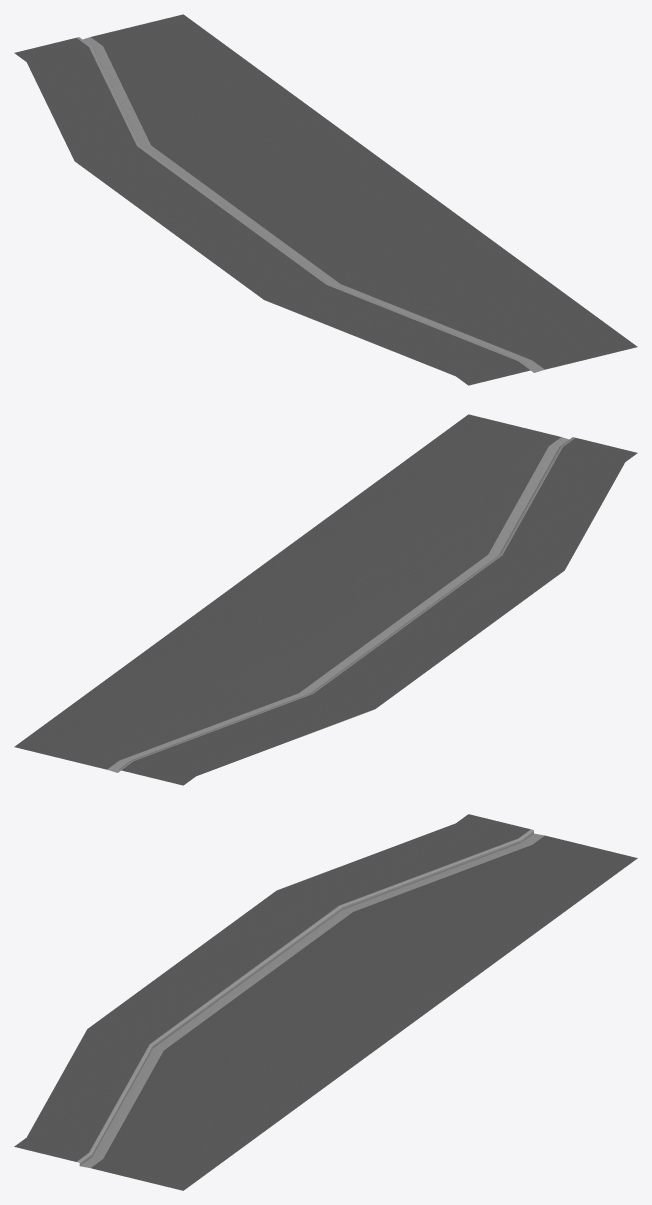
File: BusBay.glb
3 renders of one model, top to bottom at view 1: azimuth 30°, elevation 25°; view 2: azimuth 150°, elevation 25°; view 3: azimuth 330°, elevation 25°, orthographic.
Parts seen in each view (by area): view 1: BusBay-L; view 2: BusBay-L; view 3: BusBay-L.
Boxes of the visible parts, x1=… form: BusBay-L: x1=14, y1=14, x2=637, y2=385; BusBay-L: x1=14, y1=414, x2=637, y2=785; BusBay-L: x1=14, y1=814, x2=637, y2=1190.
Size of the model in its own units: 10.75 by 0.15 by 36.
3 materials, 3 textured.
